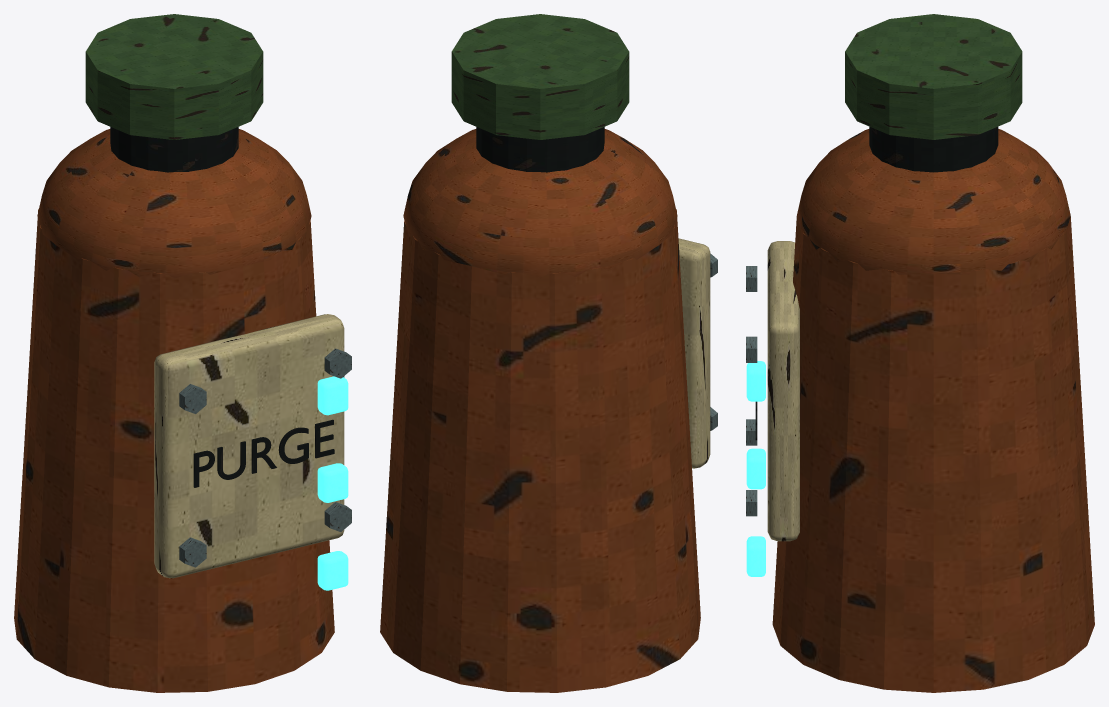
The model's file is eq-antidotecanister.glb.
3 views of the same model, side by side, from view 1: azimuth 30°, elevation 25°; view 2: azimuth 150°, elevation 25°; view 3: azimuth 270°, elevation 25° (orthographic).
Visible parts, largest first — view 1: Bottle, Cream inset.005, Shoulder, Cap, Neck, Mark_PURGE, Dose light, Dose light.001, Dose light.002, Hex fastener.020, Hex fastener.023, Hex fastener.021 (+1 smaller); view 2: Bottle, Shoulder, Cap, Cream inset.005, Neck; view 3: Bottle, Shoulder, Cap, Cream inset.005, Neck, Dose light.001, Dose light, Dose light.002.
Boxes of the visible parts, x1=… form: Bottle: x1=14, y1=209, x2=334, y2=692; Cream inset.005: x1=154, y1=314, x2=344, y2=578; Shoulder: x1=37, y1=129, x2=311, y2=278; Cap: x1=85, y1=14, x2=263, y2=139; Neck: x1=110, y1=127, x2=238, y2=172; Mark_PURGE: x1=193, y1=419, x2=334, y2=487; Dose light: x1=317, y1=551, x2=348, y2=590; Dose light.001: x1=317, y1=463, x2=348, y2=502; Dose light.002: x1=317, y1=376, x2=348, y2=415; Hex fastener.020: x1=179, y1=537, x2=206, y2=567; Hex fastener.023: x1=324, y1=348, x2=351, y2=378; Hex fastener.021: x1=179, y1=384, x2=206, y2=413; Bottle: x1=380, y1=209, x2=700, y2=692; Shoulder: x1=403, y1=129, x2=677, y2=278; Cap: x1=451, y1=14, x2=629, y2=139; Cream inset.005: x1=678, y1=238, x2=710, y2=468; Neck: x1=476, y1=127, x2=604, y2=172; Bottle: x1=772, y1=216, x2=1094, y2=692; Shoulder: x1=797, y1=129, x2=1070, y2=274; Cap: x1=845, y1=14, x2=1022, y2=139; Cream inset.005: x1=767, y1=241, x2=799, y2=541; Neck: x1=869, y1=126, x2=998, y2=172; Dose light.001: x1=746, y1=448, x2=765, y2=489; Dose light: x1=746, y1=536, x2=765, y2=576; Dose light.002: x1=746, y1=361, x2=765, y2=401.
Size of the model in its own units: 0.2 by 0.3925 by 0.2165.
Materials: 6 (6 with a texture image).
